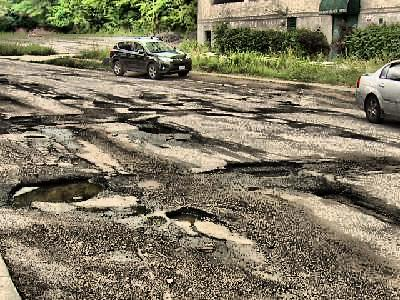pothole: (3, 173, 108, 211), (162, 204, 244, 242), (201, 157, 303, 179), (313, 188, 359, 205), (136, 123, 189, 135), (345, 131, 381, 142)
